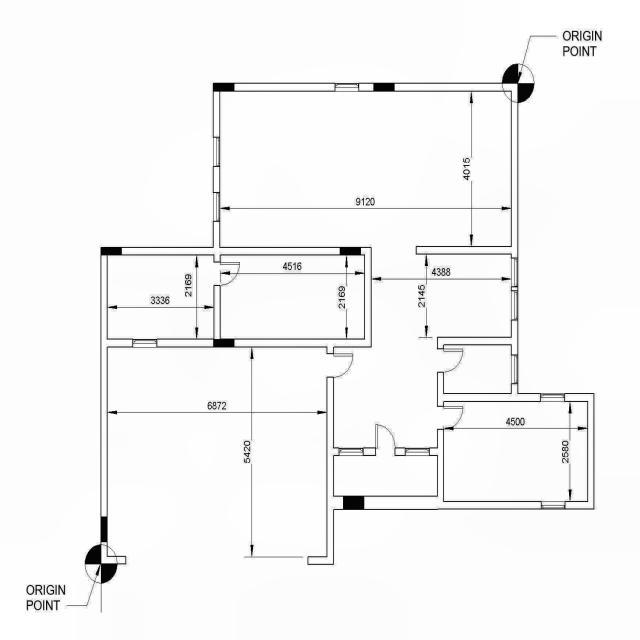Column: (342, 496, 365, 510), (339, 246, 362, 256), (213, 82, 235, 92), (372, 82, 396, 91), (100, 516, 108, 542), (101, 247, 122, 256), (213, 340, 235, 348)
Door: (212, 260, 242, 290), (369, 423, 397, 454), (436, 346, 466, 374), (437, 404, 467, 432), (330, 348, 355, 381)
Window: (129, 336, 161, 349), (212, 186, 222, 226), (212, 130, 222, 170), (538, 391, 568, 404), (539, 499, 567, 512), (333, 81, 361, 94), (336, 446, 365, 458), (510, 352, 520, 386), (403, 446, 431, 458), (510, 256, 520, 289), (510, 289, 520, 322)
